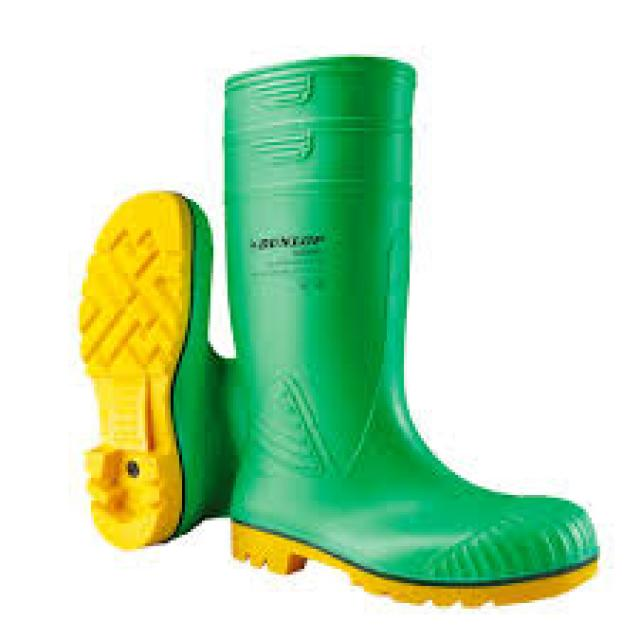shoes: (225, 56, 598, 604), (79, 192, 239, 548)
